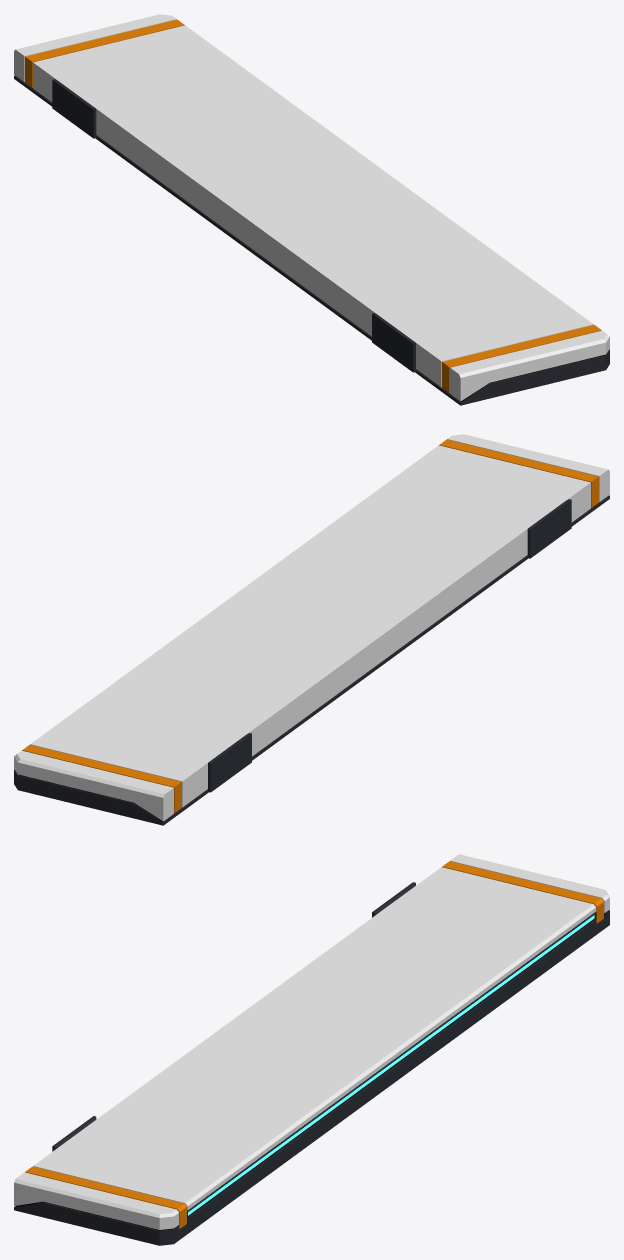
File: SM_Wall_Shelf.fbx
The picture shows the model from 3 angles, top to bottom: view 1: azimuth 30°, elevation 25°; view 2: azimuth 150°, elevation 25°; view 3: azimuth 330°, elevation 25°; orthographic projection.
Visible parts, largest first — view 1: SM_Wall_Shelf; view 2: SM_Wall_Shelf; view 3: SM_Wall_Shelf.
Part boxes in pixels (x1,y1,x2,y2): SM_Wall_Shelf: [14, 14, 609, 405]; SM_Wall_Shelf: [14, 434, 609, 825]; SM_Wall_Shelf: [14, 854, 609, 1245].
Bounding box in the file's own units: 16.46 × 3.13 × 80.
